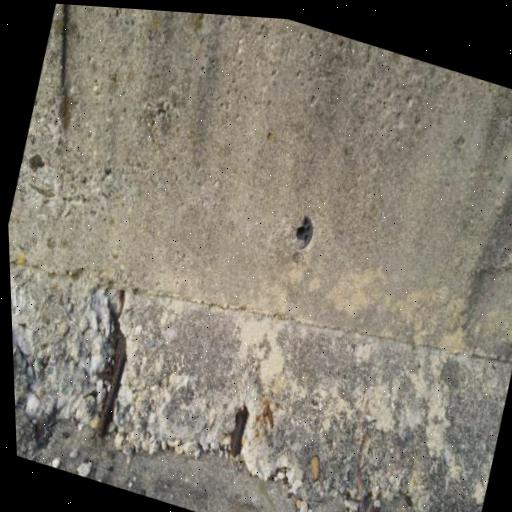exposed_rebar: (96, 335, 127, 436), (97, 336, 126, 435), (61, 4, 70, 129), (230, 408, 248, 458), (268, 410, 272, 427)
